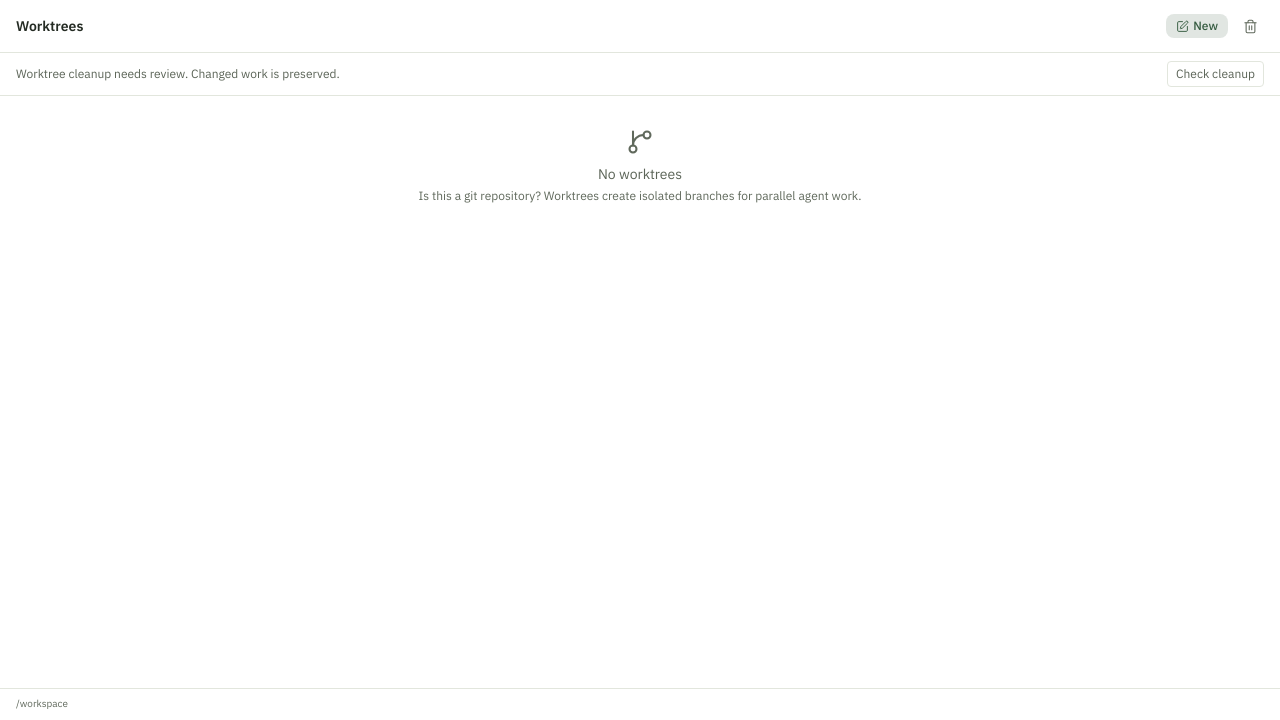
Test: checks unknown cleanup without replaying removal and explicitly resumes the next stage
Click the button "Check cleanup": (1216, 74) top-left (1167, 61), bottom-right (1264, 87)
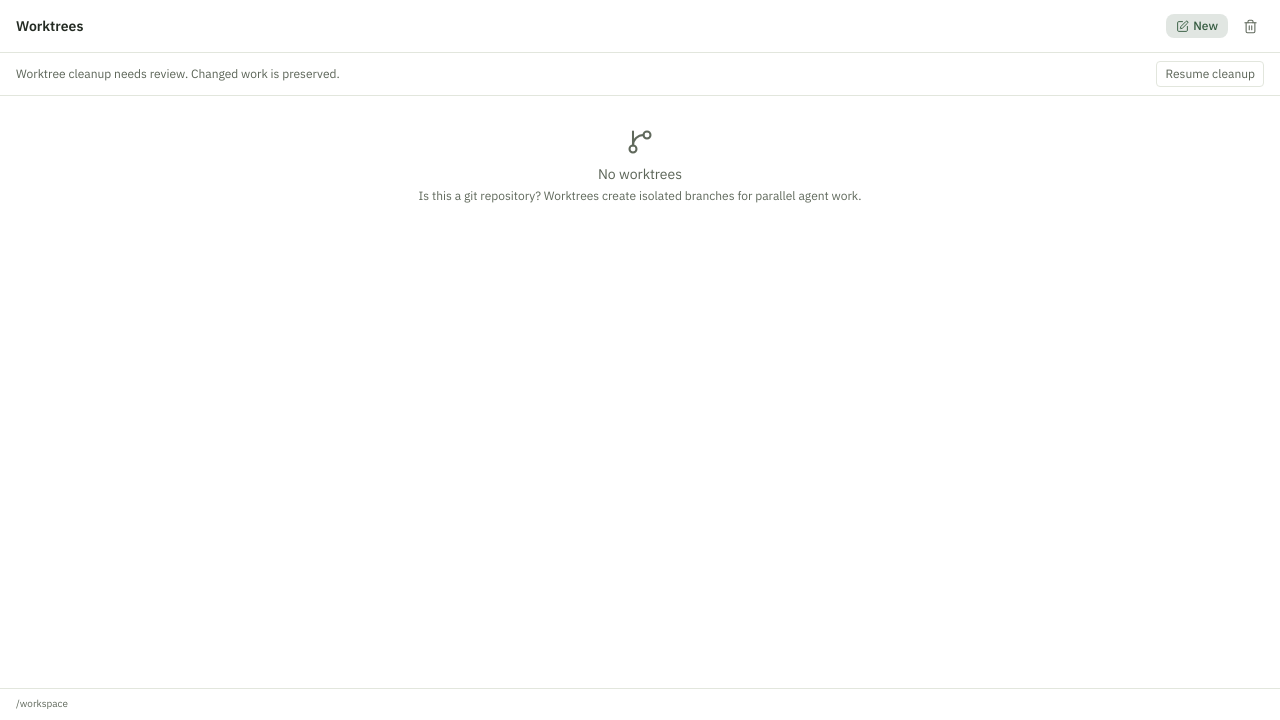
Click the button "Resume cleanup": (1210, 74) top-left (1156, 61), bottom-right (1264, 87)
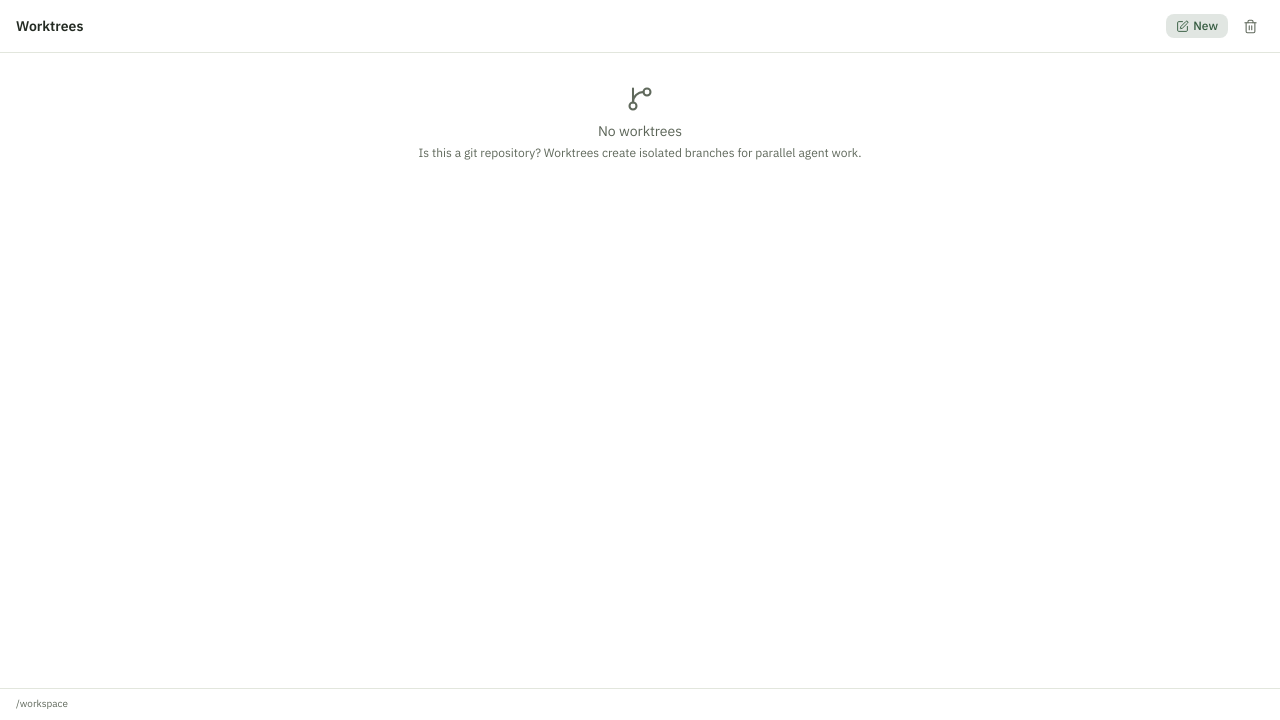
Now the button "Resume cleanup" is gone
